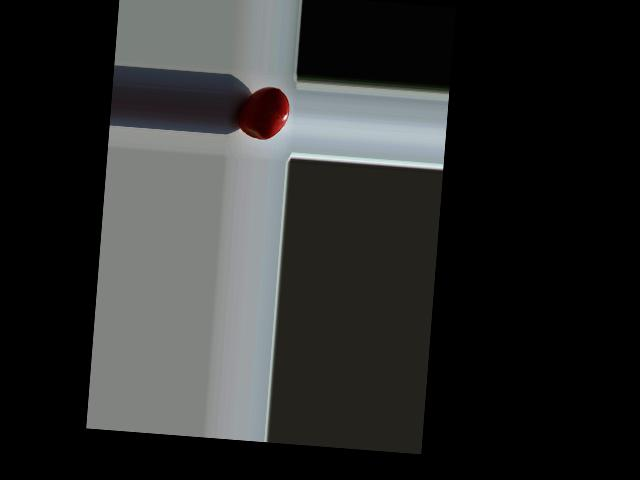tomato: (236, 84, 290, 141)
